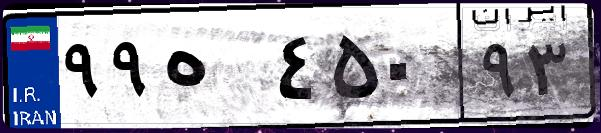0: (385, 28, 445, 110)
3: (525, 38, 570, 115)
4: (270, 28, 330, 110)
5: (330, 28, 385, 110)
9: (57, 26, 110, 100), (475, 38, 525, 113), (110, 28, 158, 98)
ه: (158, 20, 270, 120)
